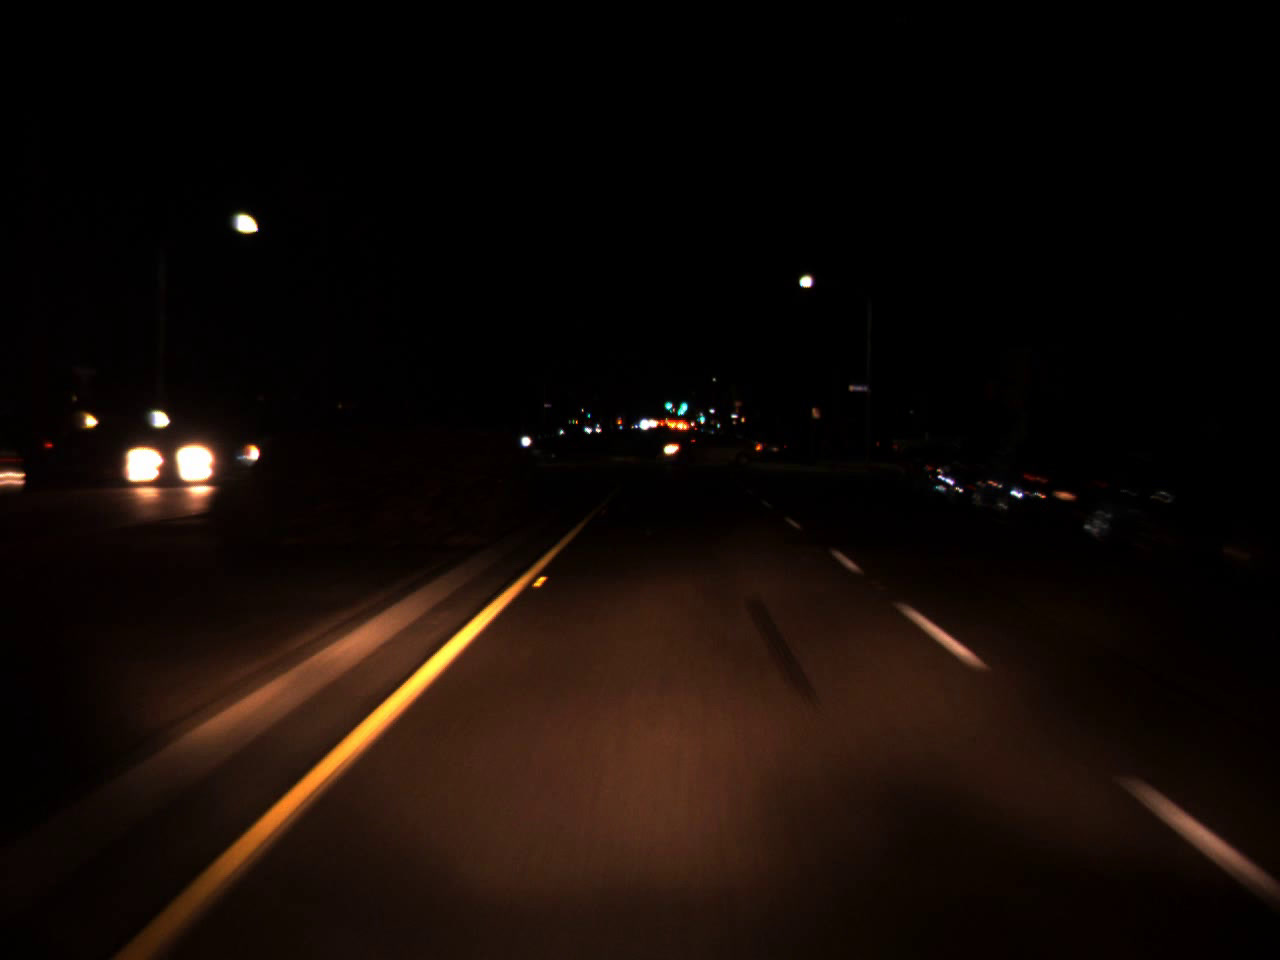go: (676, 390, 690, 417), (664, 394, 671, 412), (698, 410, 705, 422)
